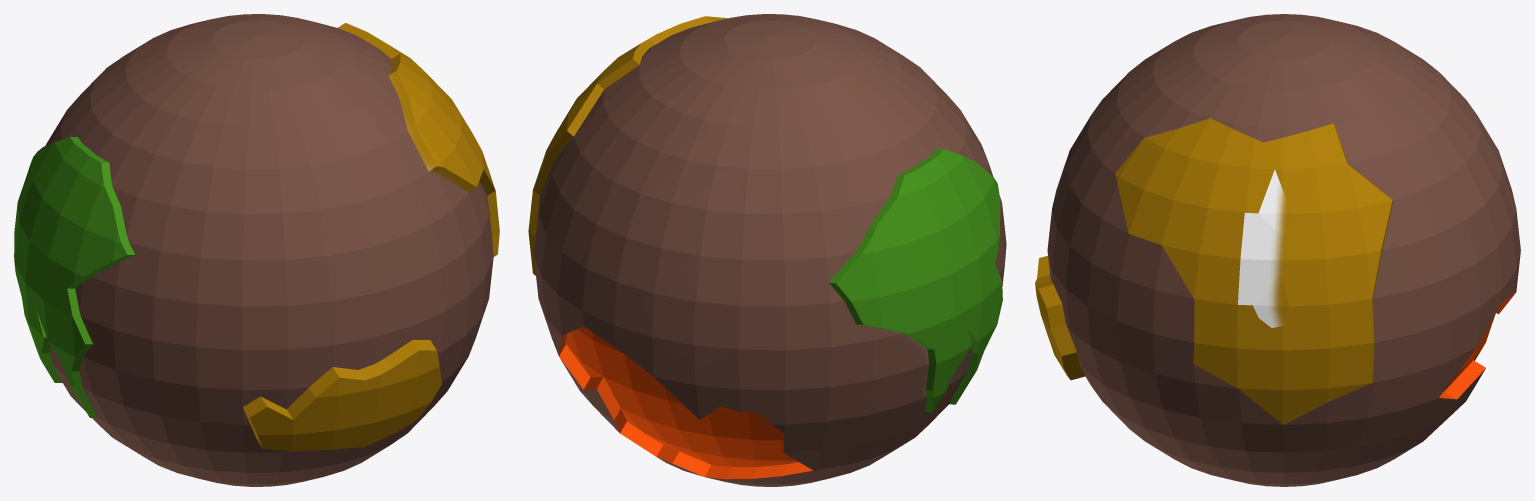
Rendered from Planet2.fbx.
3 views of the same model, side by side, from view 1: azimuth 30°, elevation 25°; view 2: azimuth 150°, elevation 25°; view 3: azimuth 270°, elevation 25° (orthographic).
Parts seen in each view (by area): view 1: Sphere; view 2: Sphere; view 3: Sphere.
Part boxes in pixels (bbox=[...]): Sphere: bbox=[14, 14, 499, 486]; Sphere: bbox=[528, 14, 1006, 486]; Sphere: bbox=[1035, 14, 1520, 486].
Bounding box in the file's own units: 697 × 672 × 689.
1 material, 1 textured.
